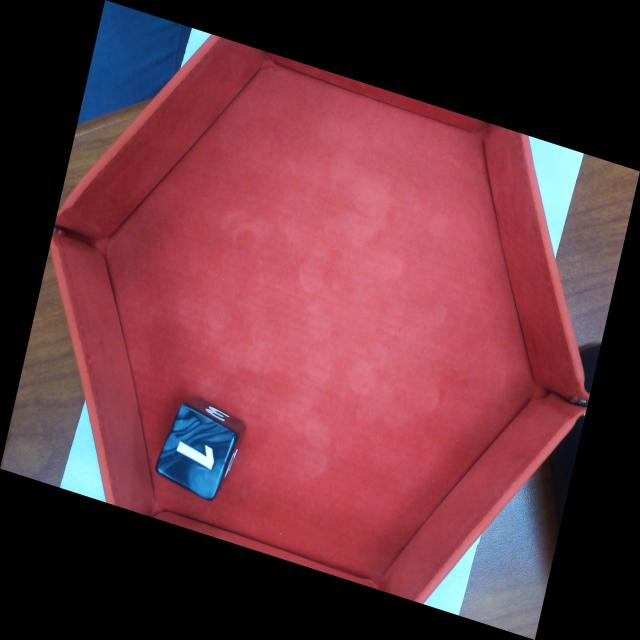dice: (153, 402, 240, 507)
